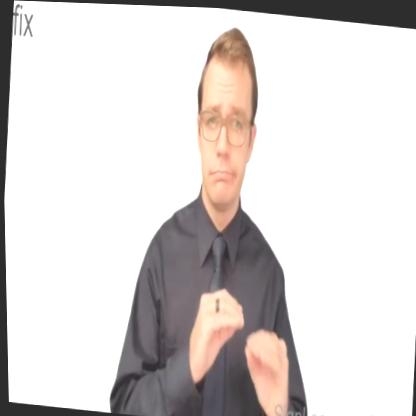Fix: (172, 273, 296, 416)
